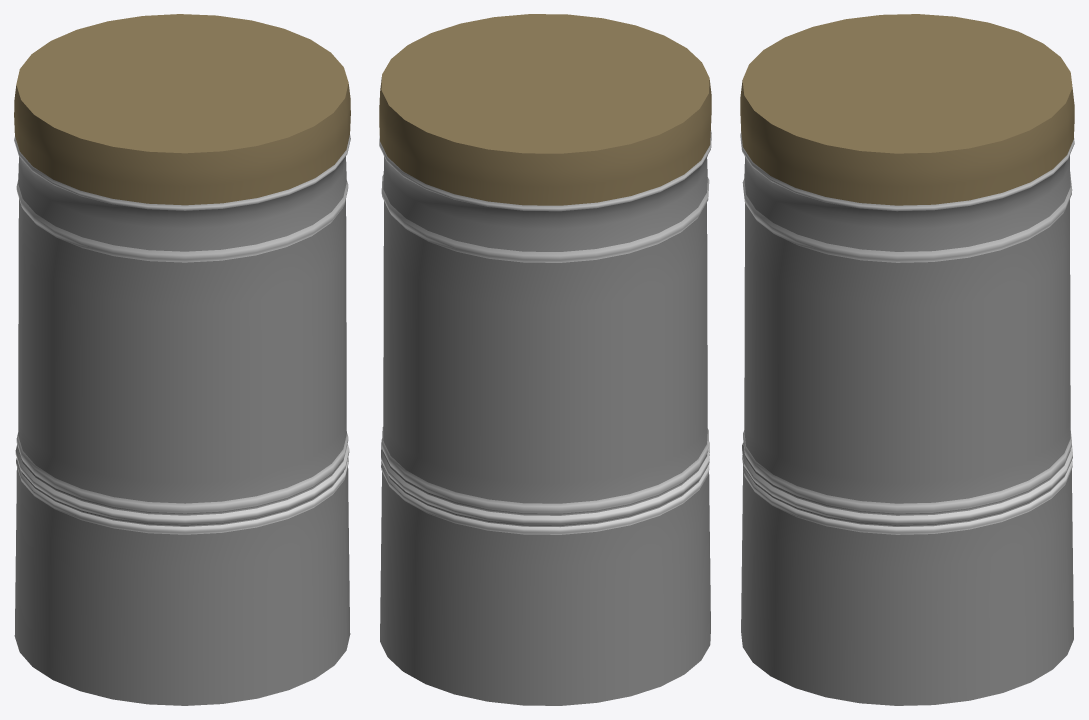
File: fsdfsd.fbx
The picture shows the model from 3 angles, left to right: view 1: azimuth 30°, elevation 25°; view 2: azimuth 150°, elevation 25°; view 3: azimuth 270°, elevation 25°; orthographic projection.
Visible parts, largest first — view 1: STAGE_2; view 2: STAGE_2; view 3: STAGE_2.
Part boxes in pixels (box(x1,y1,x2,y2)): STAGE_2: box(14, 14, 350, 705); STAGE_2: box(379, 14, 711, 705); STAGE_2: box(740, 14, 1074, 705).
Bounding box in the file's own units: 0.5849 × 1.06 × 0.5841.
